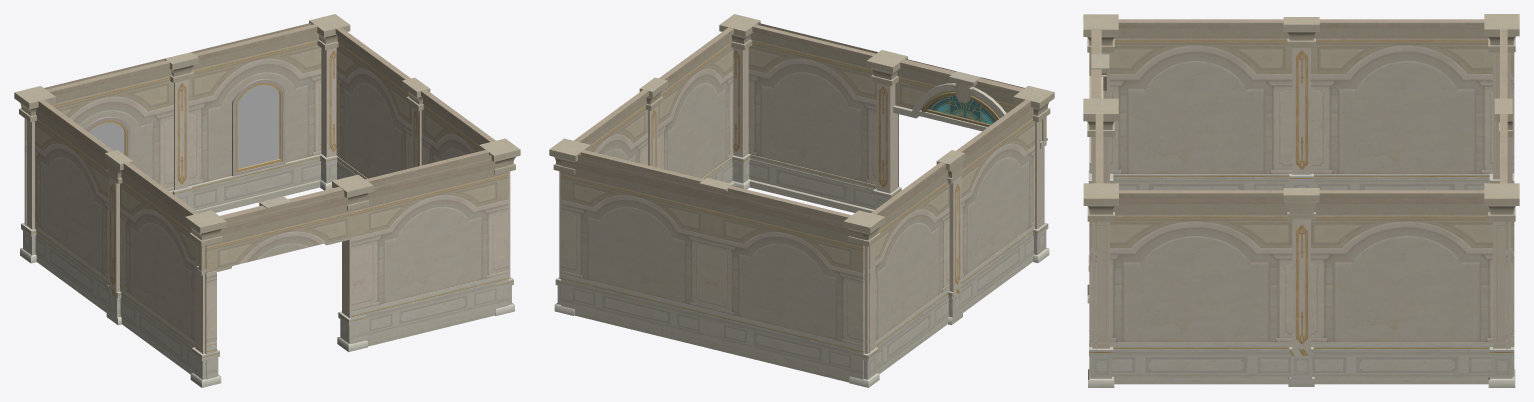
Rendered from Homeworld_Interior_Fd_Room_N_Wall_01_Vo.fbx.
The picture shows the model from 3 angles, left to right: view 1: azimuth 30°, elevation 25°; view 2: azimuth 150°, elevation 25°; view 3: azimuth 270°, elevation 25°; orthographic projection. The views are drawn at different scales.
Visible parts, largest first — view 1: Homeworld_Interior_Fd_Room_Wall_01_Vo (×5), Homeworld_Interior_Fd_Room_N_Filling_01_Vo, Homeworld_Interior_Fd_Room_Wall_02_Vo (×2), Homeworld_Interior_Fd_Room_Pillar_01_Vo (×4), Homeworld_Interior_Fd_Room_Pillar_02_Vo (×3), Homeworld_Interior_Fd_Room_Pillar_01_Vo (1), Homeworld_Interior_Fd_Room_Door_02_Vo; view 2: Homeworld_Interior_Fd_Room_Wall_01_Vo (×5), Homeworld_Interior_Fd_Room_N_Filling_01_Vo, Homeworld_Interior_Fd_Room_Pillar_01_Vo (×4), Homeworld_Interior_Fd_Room_Door_02_Vo, Homeworld_Interior_Fd_Room_Pillar_02_Vo (×2), Homeworld_Interior_Fd_Room_Pillar_01_Vo (1), Homeworld_Interior_Fd_Room_Wall_02_Vo (×2); view 3: Homeworld_Interior_Fd_Room_Wall_01_Vo (×5), Homeworld_Interior_Fd_Room_Pillar_01_Vo (×4), Homeworld_Interior_Fd_Room_Pillar_02_Vo (×3), Homeworld_Interior_Fd_Room_Pillar_01_Vo (1), Homeworld_Interior_Fd_Room_Wall_02_Vo (×2), Homeworld_Interior_Fd_Room_N_Filling_01_Vo, Homeworld_Interior_Fd_Room_Door_02_Vo.
Boxes of the visible parts, x1=… form: Homeworld_Interior_Fd_Room_Wall_01_Vo (×5): x1=35, y1=27, x2=495, y2=374; Homeworld_Interior_Fd_Room_N_Filling_01_Vo: x1=44, y1=23, x2=508, y2=379; Homeworld_Interior_Fd_Room_Wall_02_Vo (×2): x1=25, y1=24, x2=321, y2=225; Homeworld_Interior_Fd_Room_Pillar_01_Vo (×4): x1=14, y1=14, x2=520, y2=387; Homeworld_Interior_Fd_Room_Pillar_02_Vo (×3): x1=104, y1=52, x2=430, y2=325; Homeworld_Interior_Fd_Room_Pillar_01_Vo (1): x1=332, y1=174, x2=373, y2=351; Homeworld_Interior_Fd_Room_Door_02_Vo: x1=196, y1=187, x2=350, y2=275; Homeworld_Interior_Fd_Room_Wall_01_Vo (×5): x1=574, y1=24, x2=1034, y2=373; Homeworld_Interior_Fd_Room_N_Filling_01_Vo: x1=561, y1=23, x2=1024, y2=382; Homeworld_Interior_Fd_Room_Pillar_01_Vo (×4): x1=549, y1=14, x2=1054, y2=387; Homeworld_Interior_Fd_Room_Door_02_Vo: x1=893, y1=59, x2=1047, y2=148; Homeworld_Interior_Fd_Room_Pillar_02_Vo (×2): x1=639, y1=77, x2=964, y2=325; Homeworld_Interior_Fd_Room_Pillar_01_Vo (1): x1=866, y1=50, x2=907, y2=209; Homeworld_Interior_Fd_Room_Wall_02_Vo (×2): x1=580, y1=150, x2=870, y2=353; Homeworld_Interior_Fd_Room_Wall_01_Vo (×5): x1=1090, y1=19, x2=1512, y2=384; Homeworld_Interior_Fd_Room_Pillar_01_Vo (×4): x1=1083, y1=14, x2=1519, y2=387; Homeworld_Interior_Fd_Room_Pillar_02_Vo (×3): x1=1283, y1=17, x2=1512, y2=386; Homeworld_Interior_Fd_Room_Pillar_01_Vo (1): x1=1083, y1=98, x2=1118, y2=303; Homeworld_Interior_Fd_Room_Wall_02_Vo (×2): x1=1500, y1=29, x2=1507, y2=349; Homeworld_Interior_Fd_Room_N_Filling_01_Vo: x1=1089, y1=52, x2=1514, y2=376; Homeworld_Interior_Fd_Room_Door_02_Vo: x1=1089, y1=30, x2=1109, y2=167.
Size of what is drawn, in the model's own units: 10.35 by 5.02 by 10.35.
